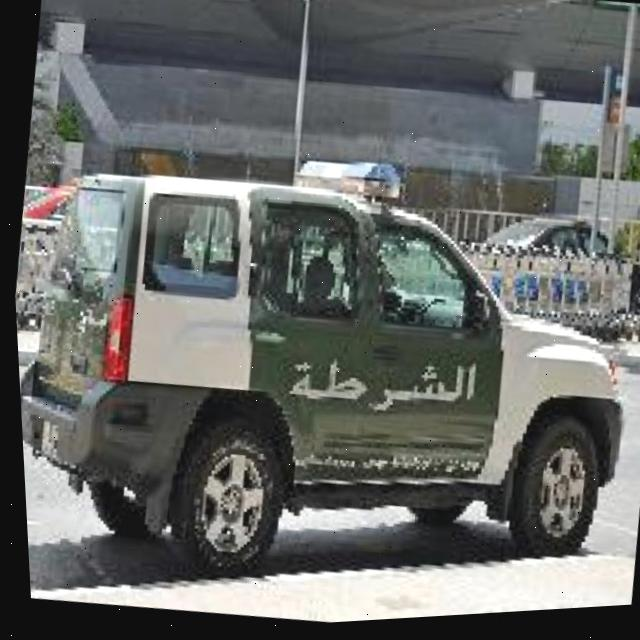emergency: (5, 99, 640, 640)
